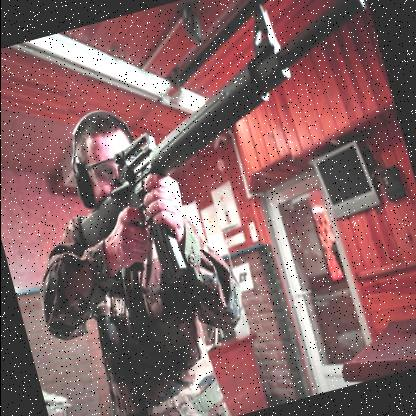rifle: (15, 0, 416, 307)
